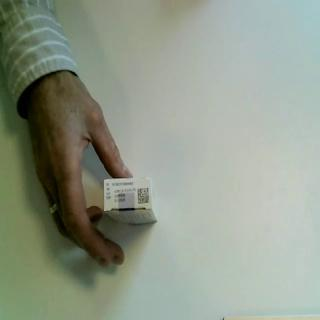imovane7-5mg: (102, 176, 158, 228)
